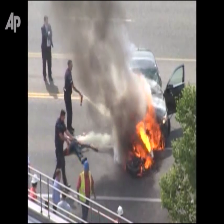fire_h: (132, 72, 165, 159)
fire_l: (144, 156, 152, 169), (139, 166, 143, 175)
